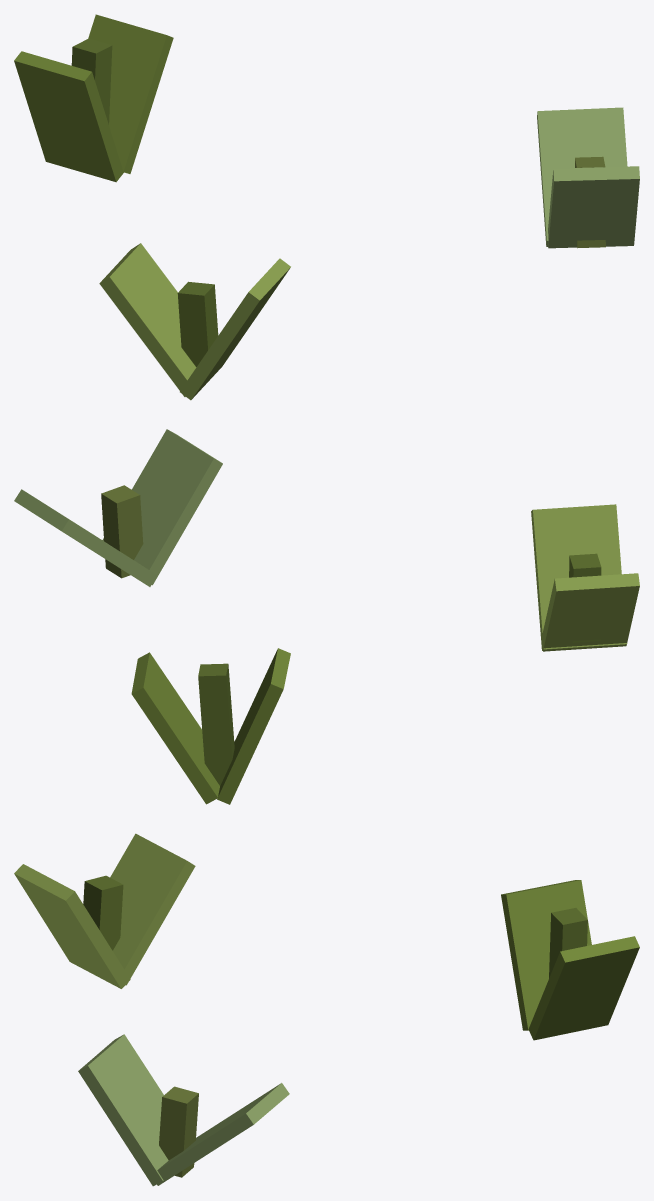
Rendered from wheatstage1.glb.
The picture shows the model from 3 angles, top to bottom: view 1: azimuth 30°, elevation 25°; view 2: azimuth 150°, elevation 25°; view 3: azimuth 270°, elevation 25°; orthographic projection. The views are drawn at different scales.
Visible parts, largest first — view 1: Cube.007; view 2: Cube.007; view 3: Cube.007.
Boxes of the visible parts, box(x1,y1,x2,y2) form: Cube.007: box(14, 14, 639, 400); Cube.007: box(14, 429, 639, 804); Cube.007: box(14, 833, 639, 1186).
Bounding box in the file's own units: 0.7076 × 0.1538 × 0.6853.
